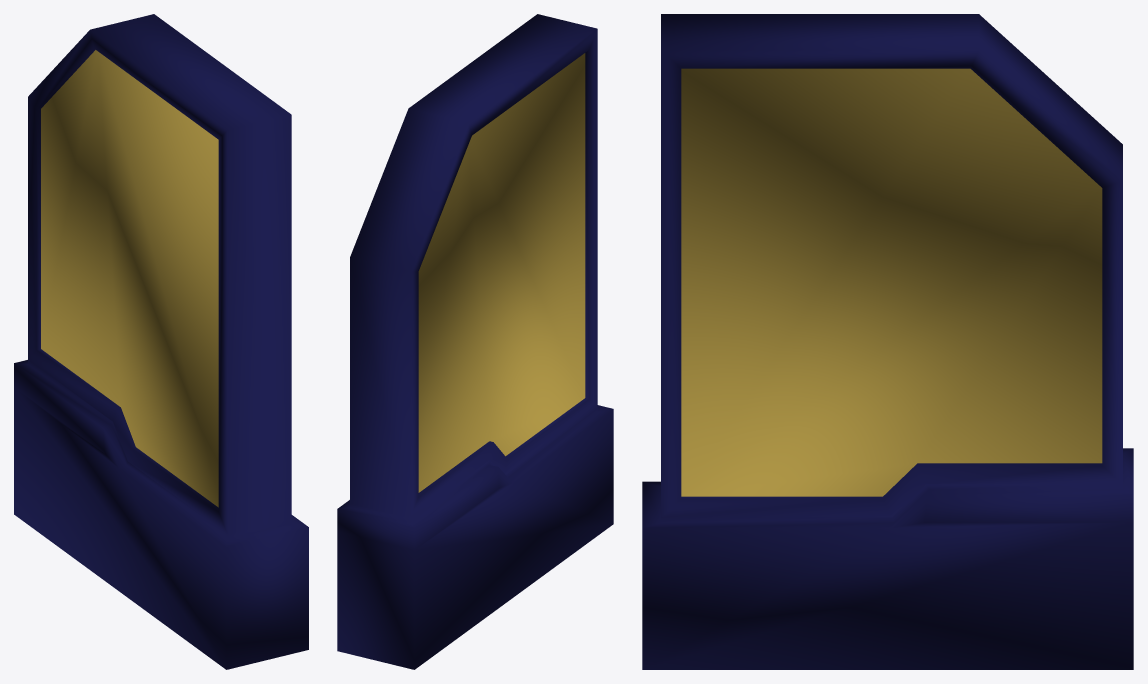
The model's file is key.glb.
3 views of the same model, side by side, from view 1: azimuth 30°, elevation 25°; view 2: azimuth 150°, elevation 25°; view 3: azimuth 270°, elevation 25° (orthographic). The views are drawn at different scales.
Parts seen in each view (by area): view 1: key; view 2: key; view 3: key.
Part boxes in pixels (bbox=[...]): key: bbox=[14, 14, 308, 669]; key: bbox=[337, 14, 613, 669]; key: bbox=[642, 14, 1133, 669].
Size of the model in its own units: 0.2573 by 1.59 by 1.15.
